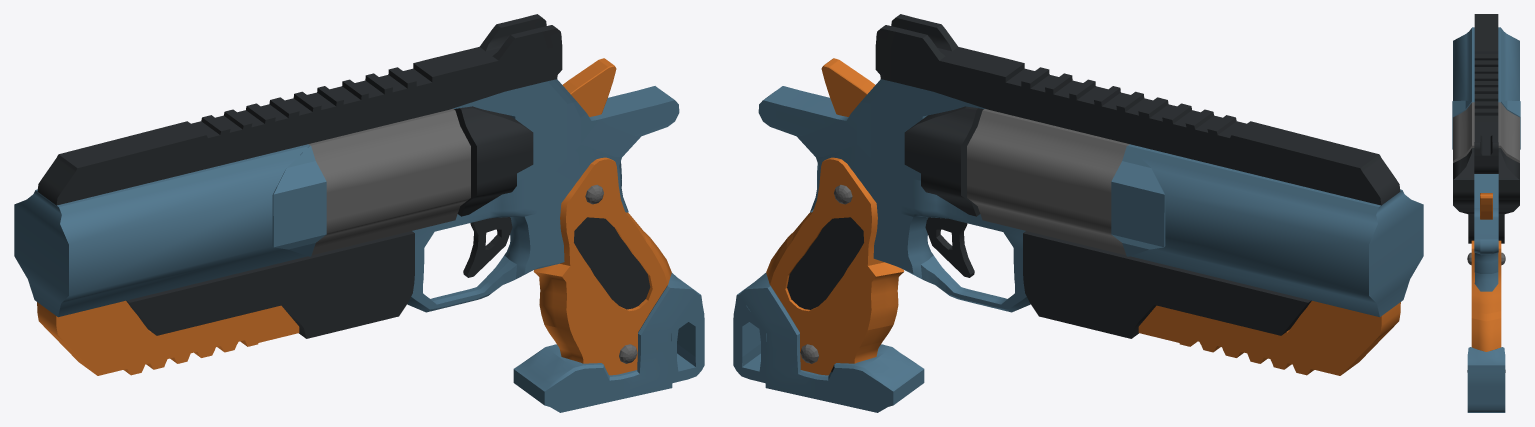
Rendered from Revolver.fbx.
3 renders of one model, left to right at view 1: azimuth 30°, elevation 25°; view 2: azimuth 150°, elevation 25°; view 3: azimuth 270°, elevation 25°, orthographic. The views are drawn at different scales.
Parts seen in each view (by area): view 1: MainBody, Mag, Hammer, Trigger; view 2: MainBody, Mag, Hammer, Trigger; view 3: MainBody, Mag, Hammer.
Boxes of the visible parts, left/top/right/bottom form: MainBody: left=14, top=14, right=704, bottom=412; Mag: left=308, top=109, right=470, bottom=255; Hammer: left=562, top=58, right=616, bottom=116; Trigger: left=463, top=217, right=512, bottom=277; MainBody: left=733, top=14, right=1423, bottom=412; Mag: left=967, top=109, right=1129, bottom=255; Hammer: left=821, top=58, right=875, bottom=116; Trigger: left=925, top=217, right=974, bottom=277; MainBody: left=1452, top=14, right=1520, bottom=412; Mag: left=1453, top=102, right=1519, bottom=162; Hammer: left=1480, top=193, right=1492, bottom=219.
Size of the model in its own units: 410 by 231 by 61.58.
